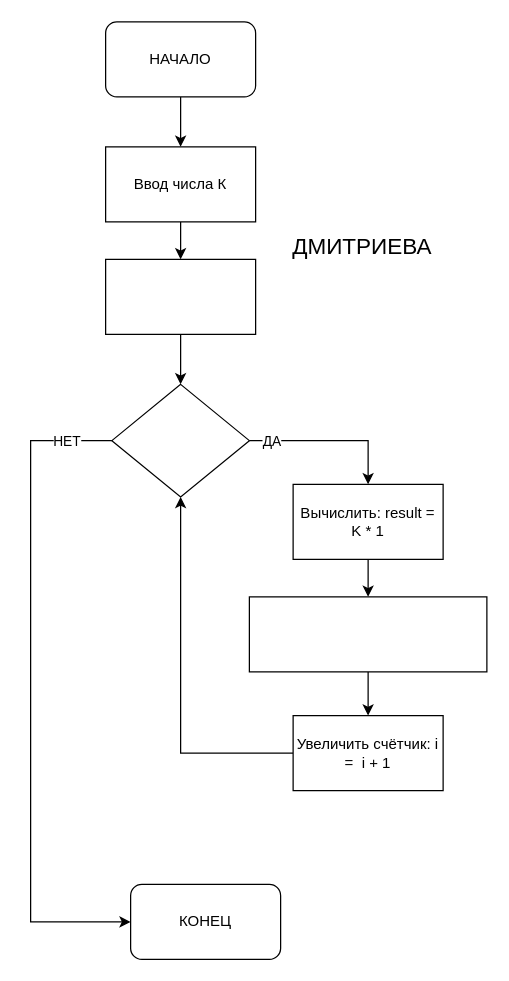
Some shapes in this 509 by 981 pixel diagram are drawn without their labels. Each missing label, with the centre of its shape:
i <= 10?: [180,440]
Вывести: K, " * ", i , " = ", result: [367,634]
Создание счётчика: i = 1: [180,296]
